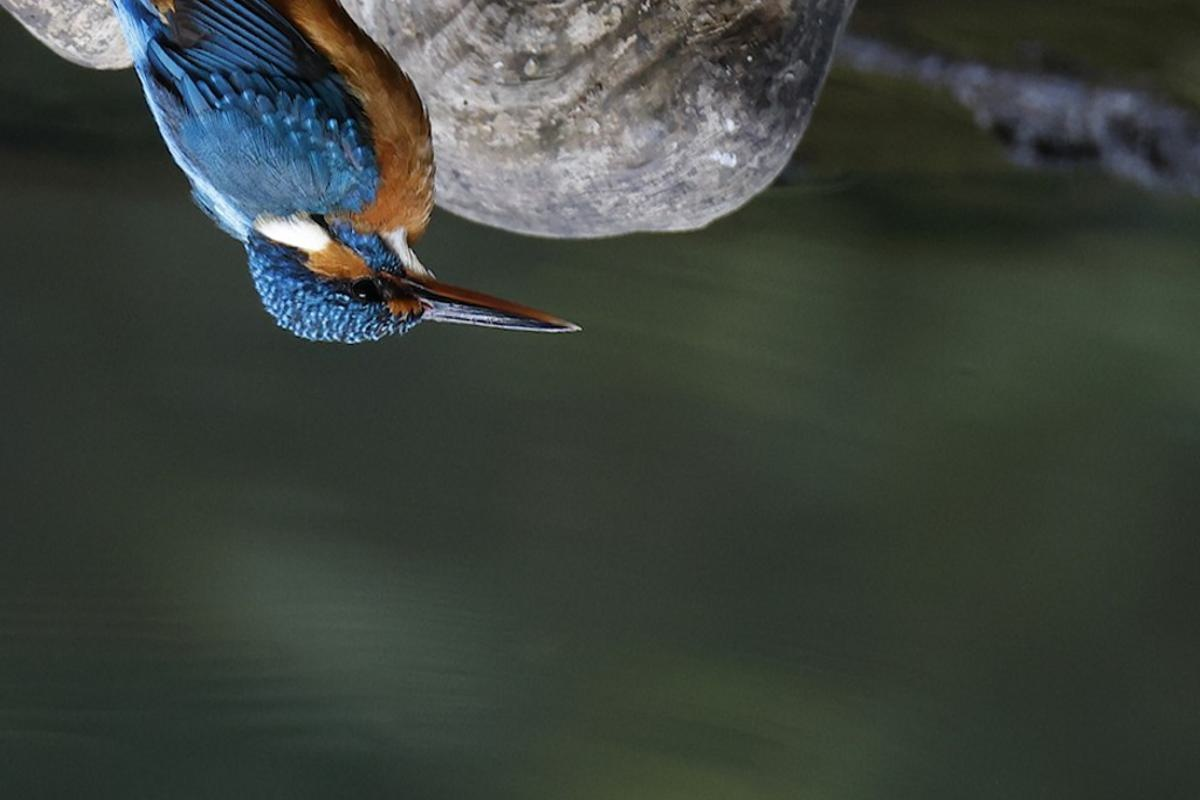kingfisher: (84, 1, 592, 361)
